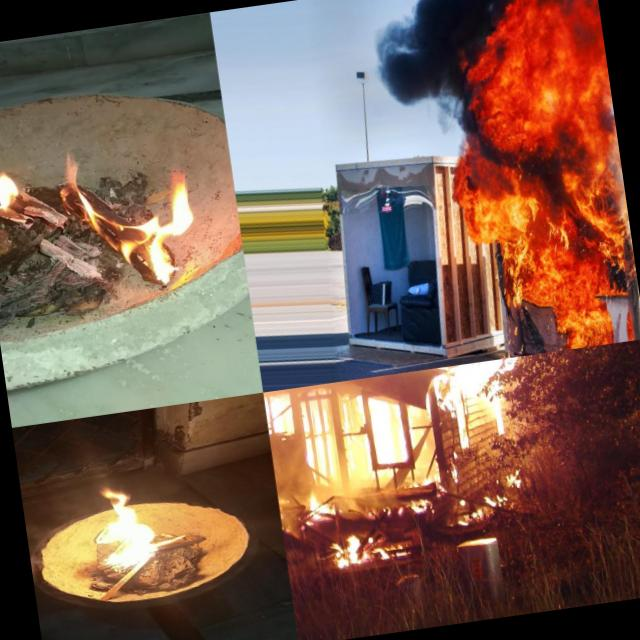fire: (435, 0, 640, 355), (263, 362, 507, 542), (56, 136, 206, 300), (80, 479, 158, 571), (0, 163, 34, 222)
smoke: (338, 0, 491, 145)
